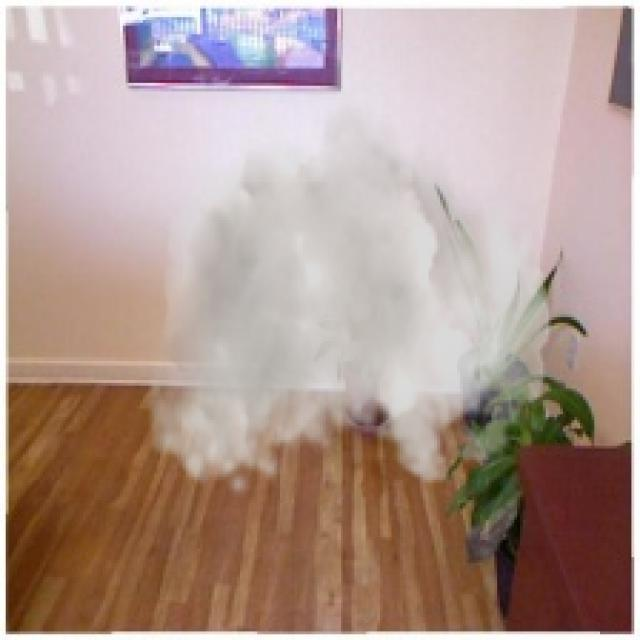Smoke: (146, 82, 552, 498)
